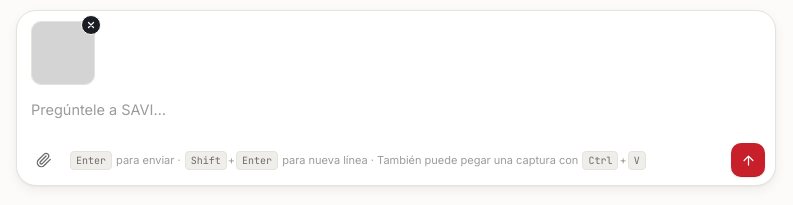
Composer · imágenes adjuntas › quitar una imagen revoca su miniatura
The width and height of the screenshot is (793, 205).
Step 1. Click the button named "Quitar imagen captura.png" → click(91, 25), box [81,15,101,35]
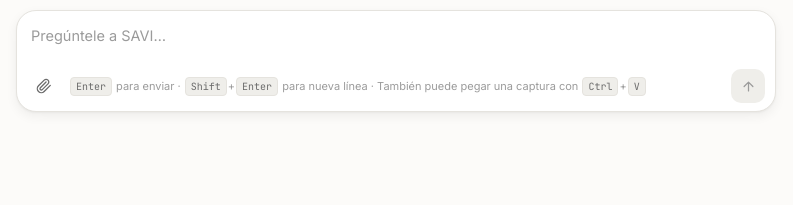
Result: no list items with class "chip" are shown
